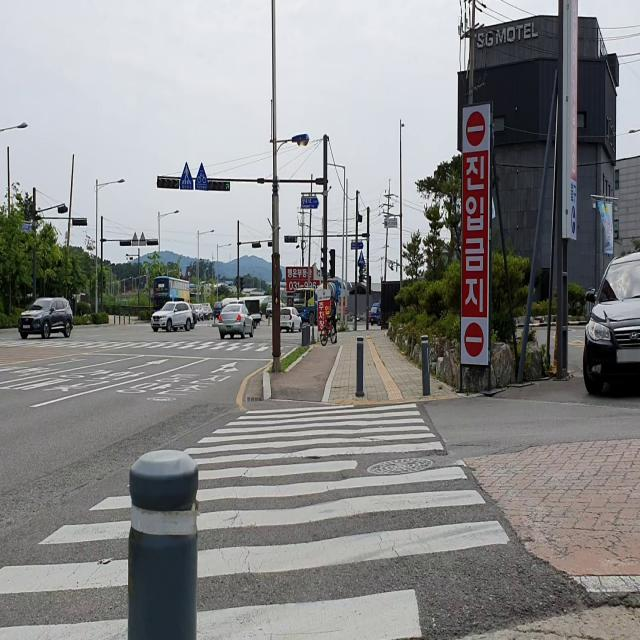횡단보도: (2, 399, 512, 636), (0, 336, 284, 358)
